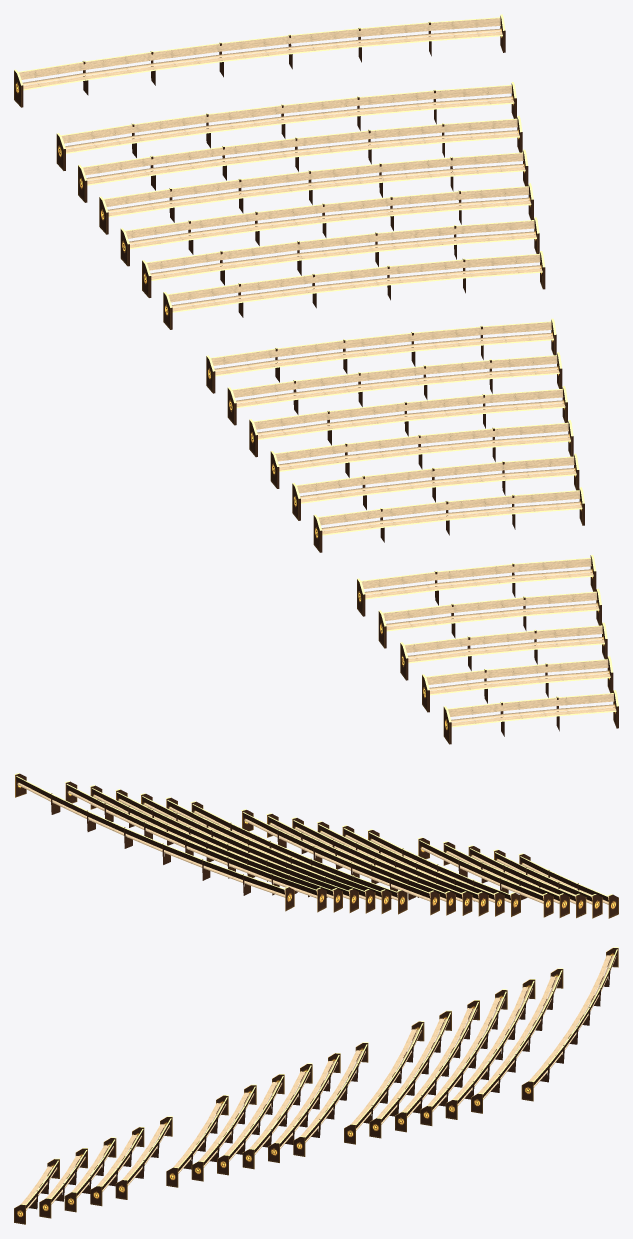
The model's file is mwm_mudbench2_gate_g.glb.
3 views of the same model, one above another, from view 1: azimuth 30°, elevation 25°; view 2: azimuth 150°, elevation 25°; view 3: azimuth 270°, elevation 25° (orthographic). The views are drawn at different scales.
Visible parts, largest first — view 1: cypress, edge_g, gold, walnut, endpanel; view 2: walnut, cypress, endpanel, gold; view 3: cypress, walnut, endpanel, gold.
Part boxes in pixels (x1,y1,x2,y2): cypress: (19,18,616,726); edge_g: (23,35,616,727); gold: (14,14,618,722); walnut: (21,22,618,744); endpanel: (14,16,616,743); walnut: (16,776,608,901); cypress: (17,783,608,904); endpanel: (15,773,618,918); gold: (14,773,612,896); cypress: (21,955,616,1210); walnut: (26,951,617,1209); endpanel: (14,948,618,1224); gold: (15,947,618,1207).
Size of the model in its own units: 20.46 by 16.24 by 38.6.
5 materials, 3 textured.
